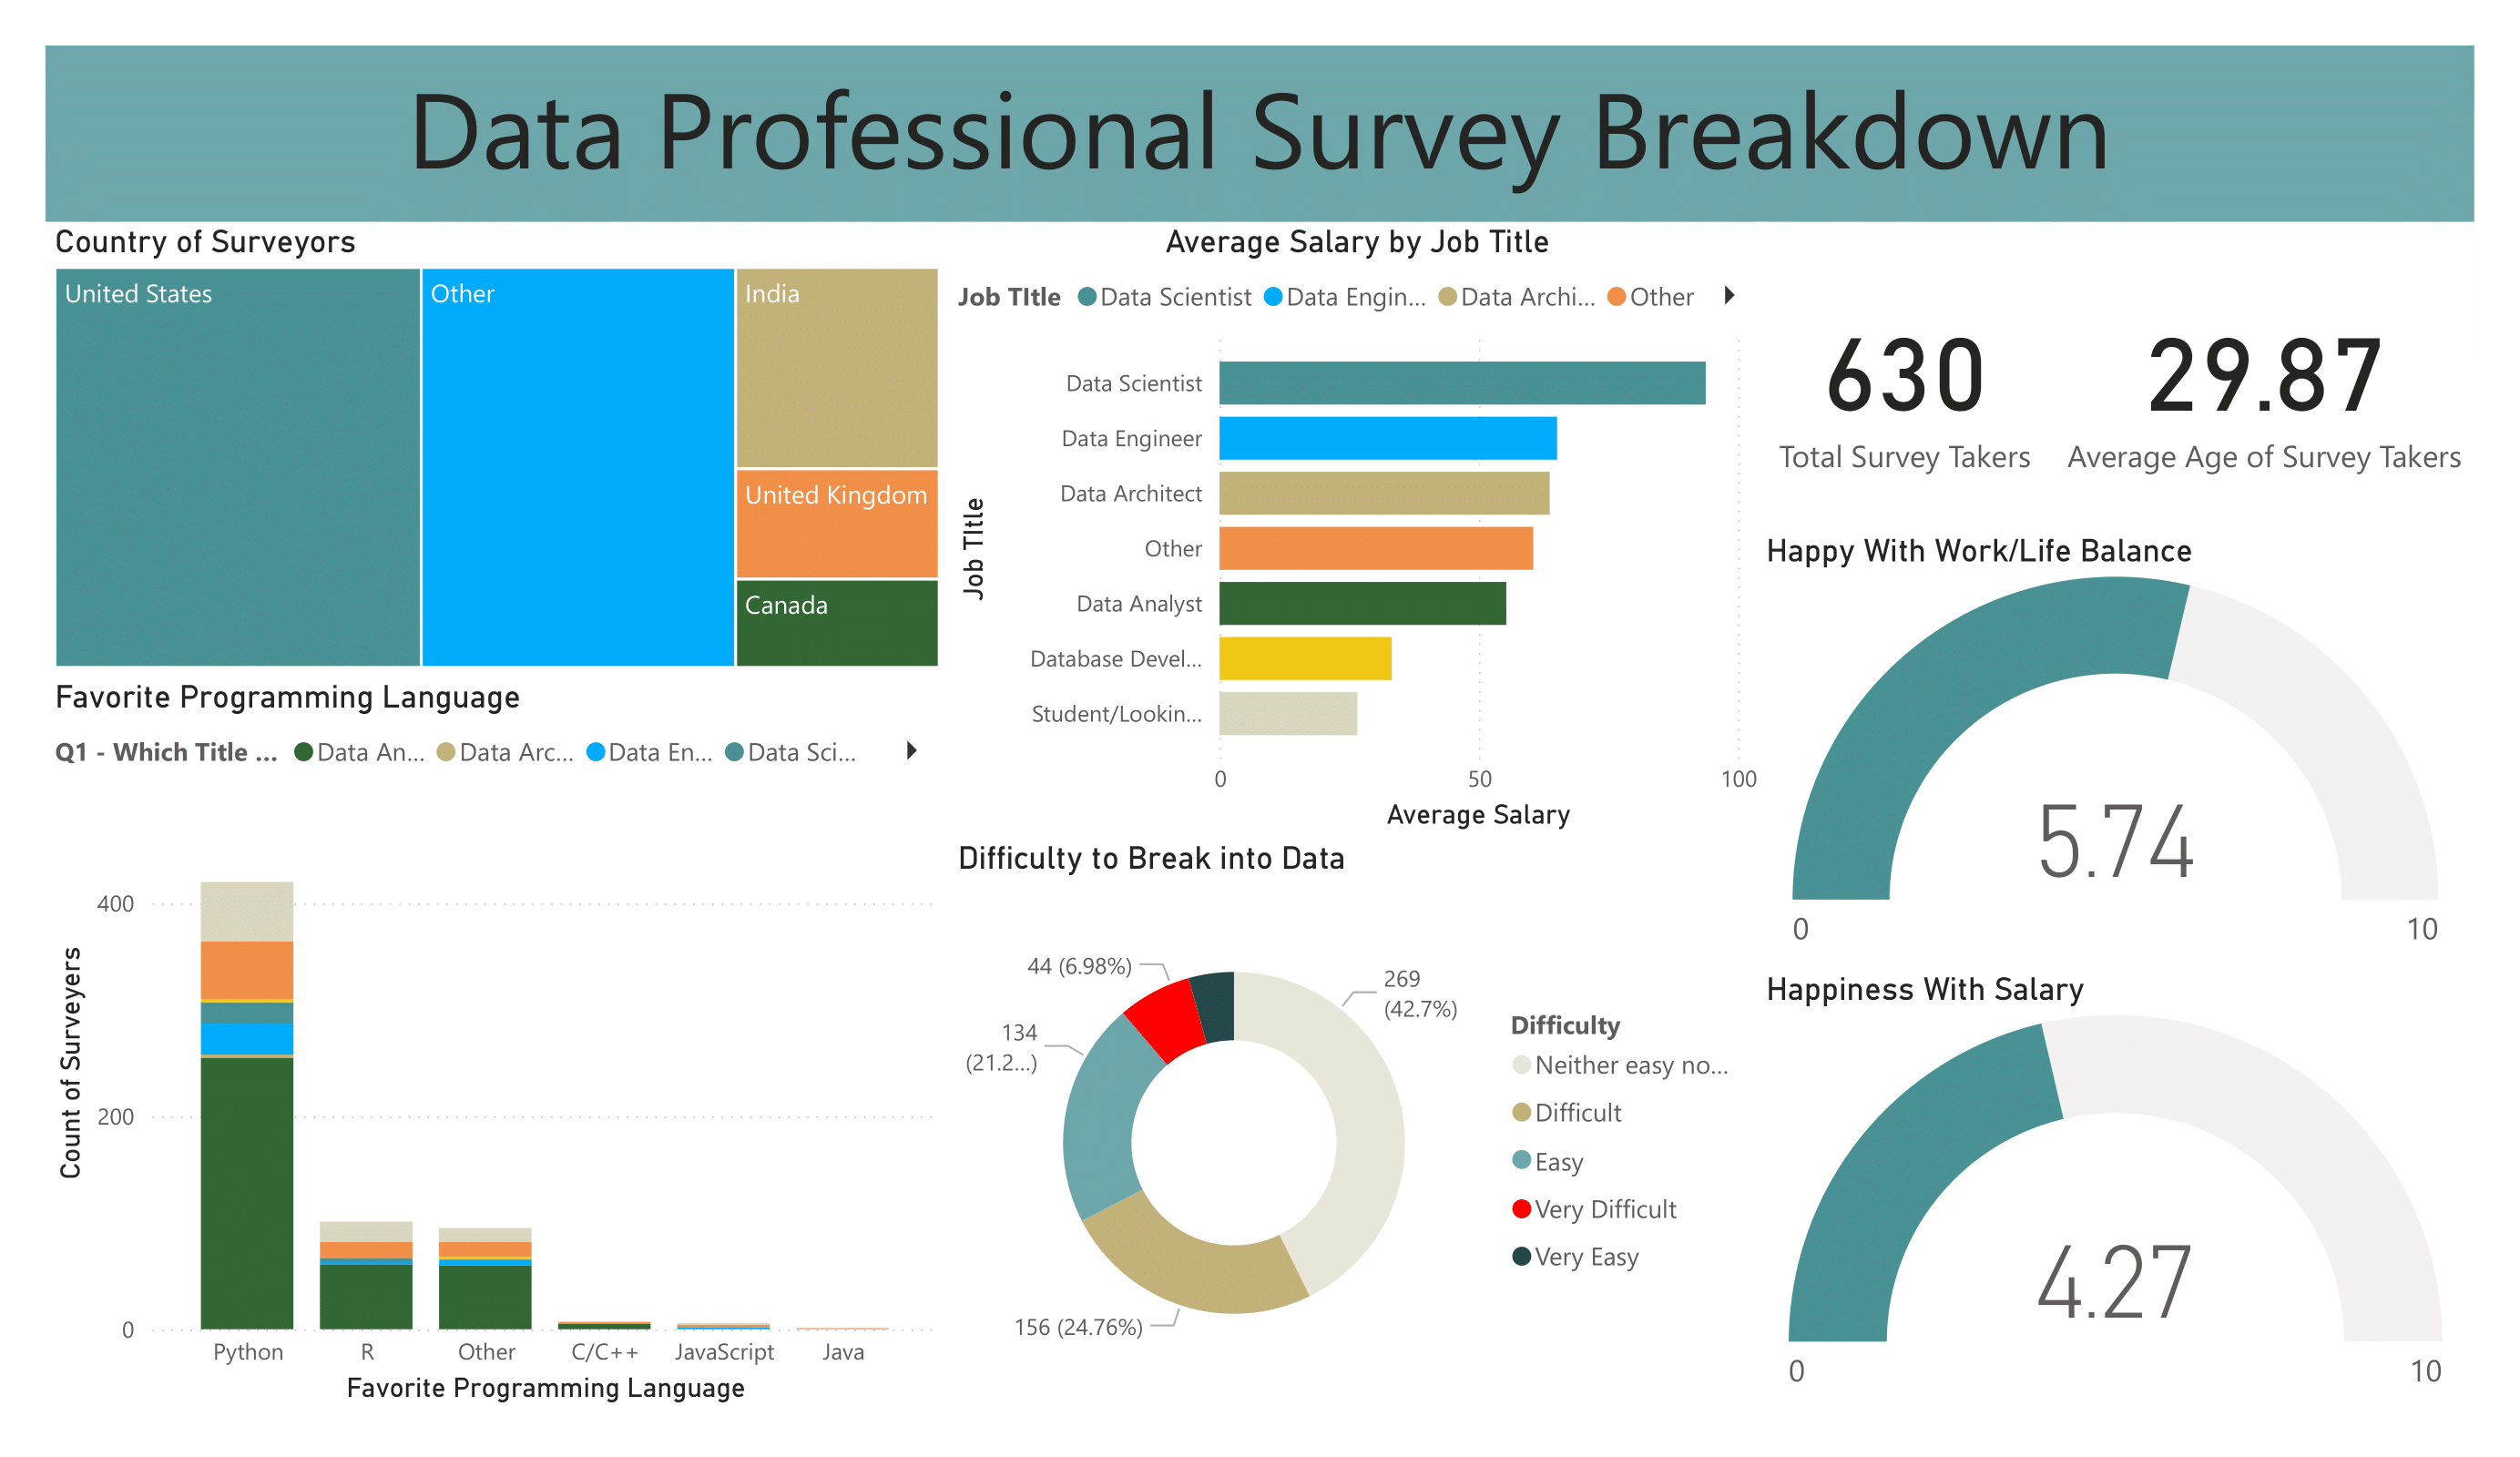

Layout of this report page (visuals, bound fields, positions):
{"tool":"powerbi","page":{"name":"Page 1","canvas":[1280,720],"ordinal":0},"visuals":[{"type":"textbox","box":[0,0,1280.3,92.9],"z":0},{"type":"card","fields":{"Values":["CountNonNull(Data Professional Survey (2).Unique ID)"]},"box":[902.5,92.9,155.3,168.8],"z":1000},{"type":"card","fields":{"Values":["Avg(Data Professional Survey (2).Q10 - Current Age)"]},"box":[1059,92.9,221.3,168.8],"z":2000},{"type":"barChart","title":"Average Salary by Job Title","fields":{"Category":["Data Professional Survey (2).Q1 - Which Title Best Fits your Current Role?.1"],"Y":["Avg(Data Professional Survey (2).Average Salary)"],"Series":["Data Professional Survey (2).Q1 - Which Title Best Fits your Current Role?.1"]},"box":[475.7,92.9,431.7,325.3],"z":3000},{"type":"columnChart","title":"Favorite Programming Language","fields":{"Category":["Data Professional Survey (2).Q5 - Favorite Programming Language.1"],"Y":["CountNonNull(Data Professional Survey (2).Unique ID)"],"Series":["Data Professional Survey (2).Q1 - Which Title Best Fits your Current Role?.1"]},"box":[0,332.6,475.7,387.6],"z":4000},{"type":"treemap","title":"Country of Surveyors","fields":{"Values":["CountNonNull(Data Professional Survey (2).Q11 - Which Country do you live in?.1)"],"Group":["Data Professional Survey (2).Q11 - Which Country do you live in?.1"]},"box":[0,92.9,475.7,239.7],"z":5000},{"type":"gauge","title":"Happy With Work/Life Balance","fields":{"Y":["Avg(Data Professional Survey (2).Q6 - How Happy are you in your Current Position with the following? (Work/Life Balance)"],"MinValue":["Min(Data Professional Survey (2).Q6 - How Happy are you in your Current Position with the following? (Work/Life Balance)"],"MaxValue":["Max(Data Professional Survey (2).Q6 - How Happy are you in your Current Position with the following? (Work/Life Balance)"]},"box":[902.5,255.6,377.9,231.1],"z":6000},{"type":"gauge","title":"Happiness With Salary","fields":{"Y":["Avg(Data Professional Survey (2).Q6 - How Happy are you in your Current Position with the following? (Salary))"],"MinValue":["Min(Data Professional Survey (2).Q6 - How Happy are you in your Current Position with the following? (Salary))"],"MaxValue":["Max(Data Professional Survey (2).Q6 - How Happy are you in your Current Position with the following? (Salary))"]},"box":[902.5,486.7,377.9,233.6],"z":7000},{"type":"donutChart","title":"Difficulty to Break into Data","fields":{"Category":["Data Professional Survey (2).Q7 - How difficult was it for you to break into Data?"],"Y":["CountNonNull(Data Professional Survey (2).Q7 - How difficult was it for you to break into Data?)"]},"box":[475.7,418.2,426.8,302],"z":7001}]}

Visuals, with their boxes in screenshot pixels (x1, y1, x2, y2):
textbox: [46,46,2474,222]
card - CountNonNull(Data Professional Survey (2).Unique ID): [1758,222,2053,542]
card - Avg(Data Professional Survey (2).Q10 - Current Age): [2056,222,2474,542]
"Average Salary by Job Title" barChart: [948,222,1768,839]
"Favorite Programming Language" columnChart: [46,677,948,1411]
"Country of Surveyors" treemap: [46,222,948,677]
"Happy With Work/Life Balance" gauge: [1758,530,2474,969]
"Happiness With Salary" gauge: [1758,969,2474,1411]
"Difficulty to Break into Data" donutChart: [948,839,1758,1411]
